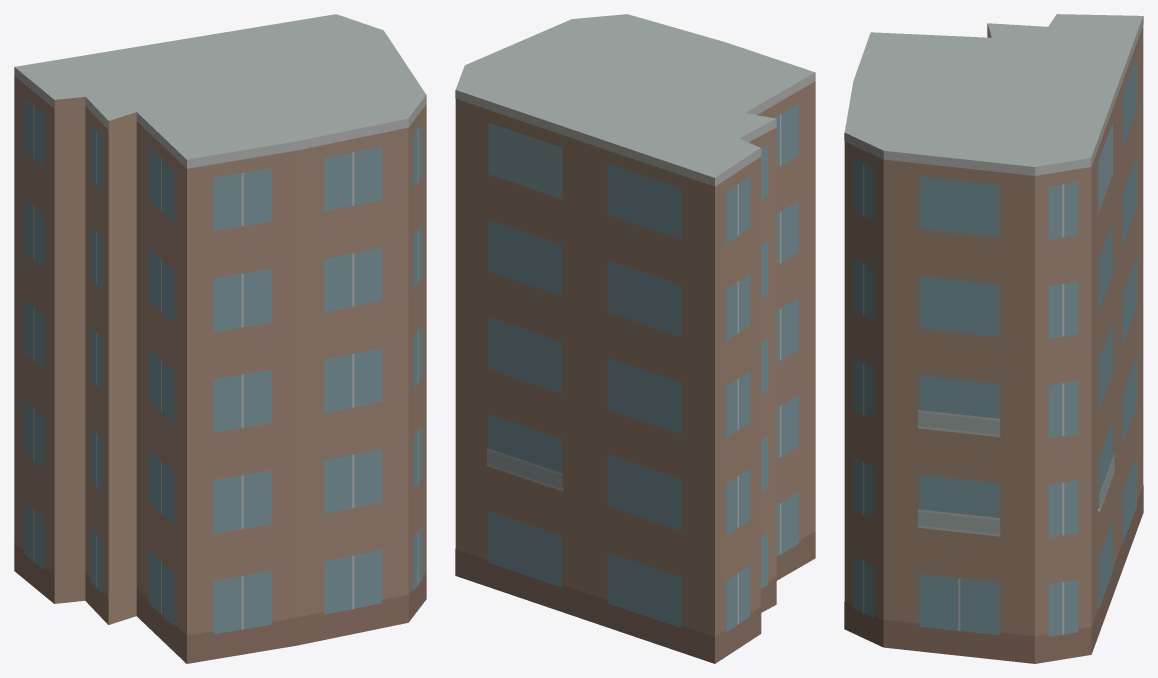
File: survey-upis-32464433.glb
The picture shows the model from 3 angles, left to right: view 1: azimuth 30°, elevation 25°; view 2: azimuth 150°, elevation 25°; view 3: azimuth 270°, elevation 25°; orthographic projection. The views are drawn at different scales.
Visible parts, largest first — view 1: survey-upis-32464433.tmp; view 2: survey-upis-32464433.tmp; view 3: survey-upis-32464433.tmp.
Part boxes in pixels (bbox=[...]): survey-upis-32464433.tmp: bbox=[14, 14, 426, 663]; survey-upis-32464433.tmp: bbox=[455, 14, 815, 663]; survey-upis-32464433.tmp: bbox=[844, 14, 1143, 663].
Bounding box in the file's own units: 9.03 × 13.65 × 7.45.
